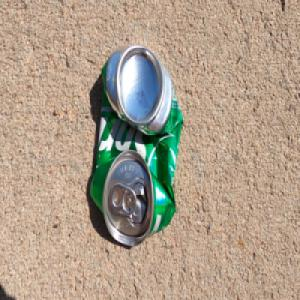SodaCan: (88, 42, 184, 248)
